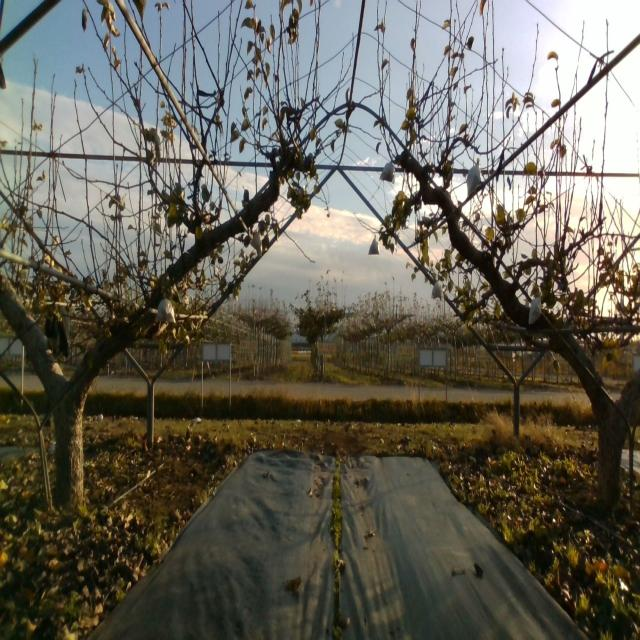pearbags: (155, 292, 177, 324), (467, 158, 481, 197), (248, 229, 263, 258), (528, 296, 543, 324), (380, 162, 395, 182), (431, 280, 444, 301), (368, 234, 378, 256)
